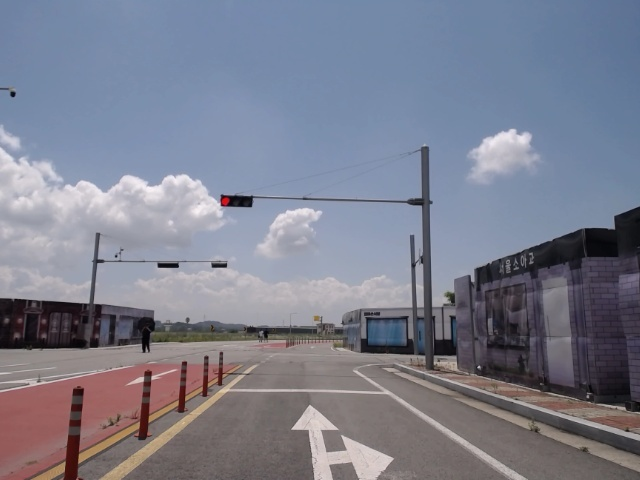red_3: (219, 196, 254, 209)
